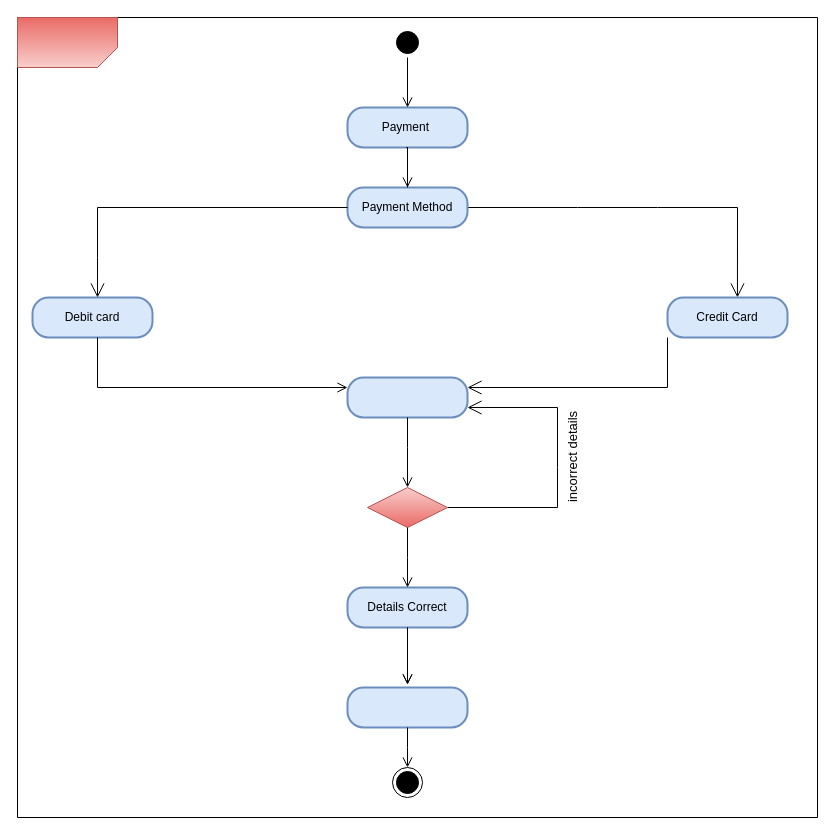
Some shapes in this 835 by 835 pixel diagram are drawn without their labels. The shapes that lost their labels are listed below. From the top down, each one's centre as x and y in pixels, then its label:
At (x=67, y=42): "sm Payment".
At (x=407, y=397): "Enter Details".
At (x=407, y=707): "Payment confirmed".
